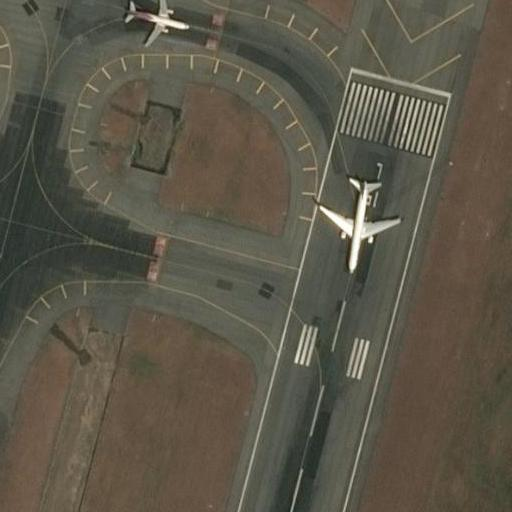Aircraft: (313, 169, 403, 278), (118, 0, 195, 50)
